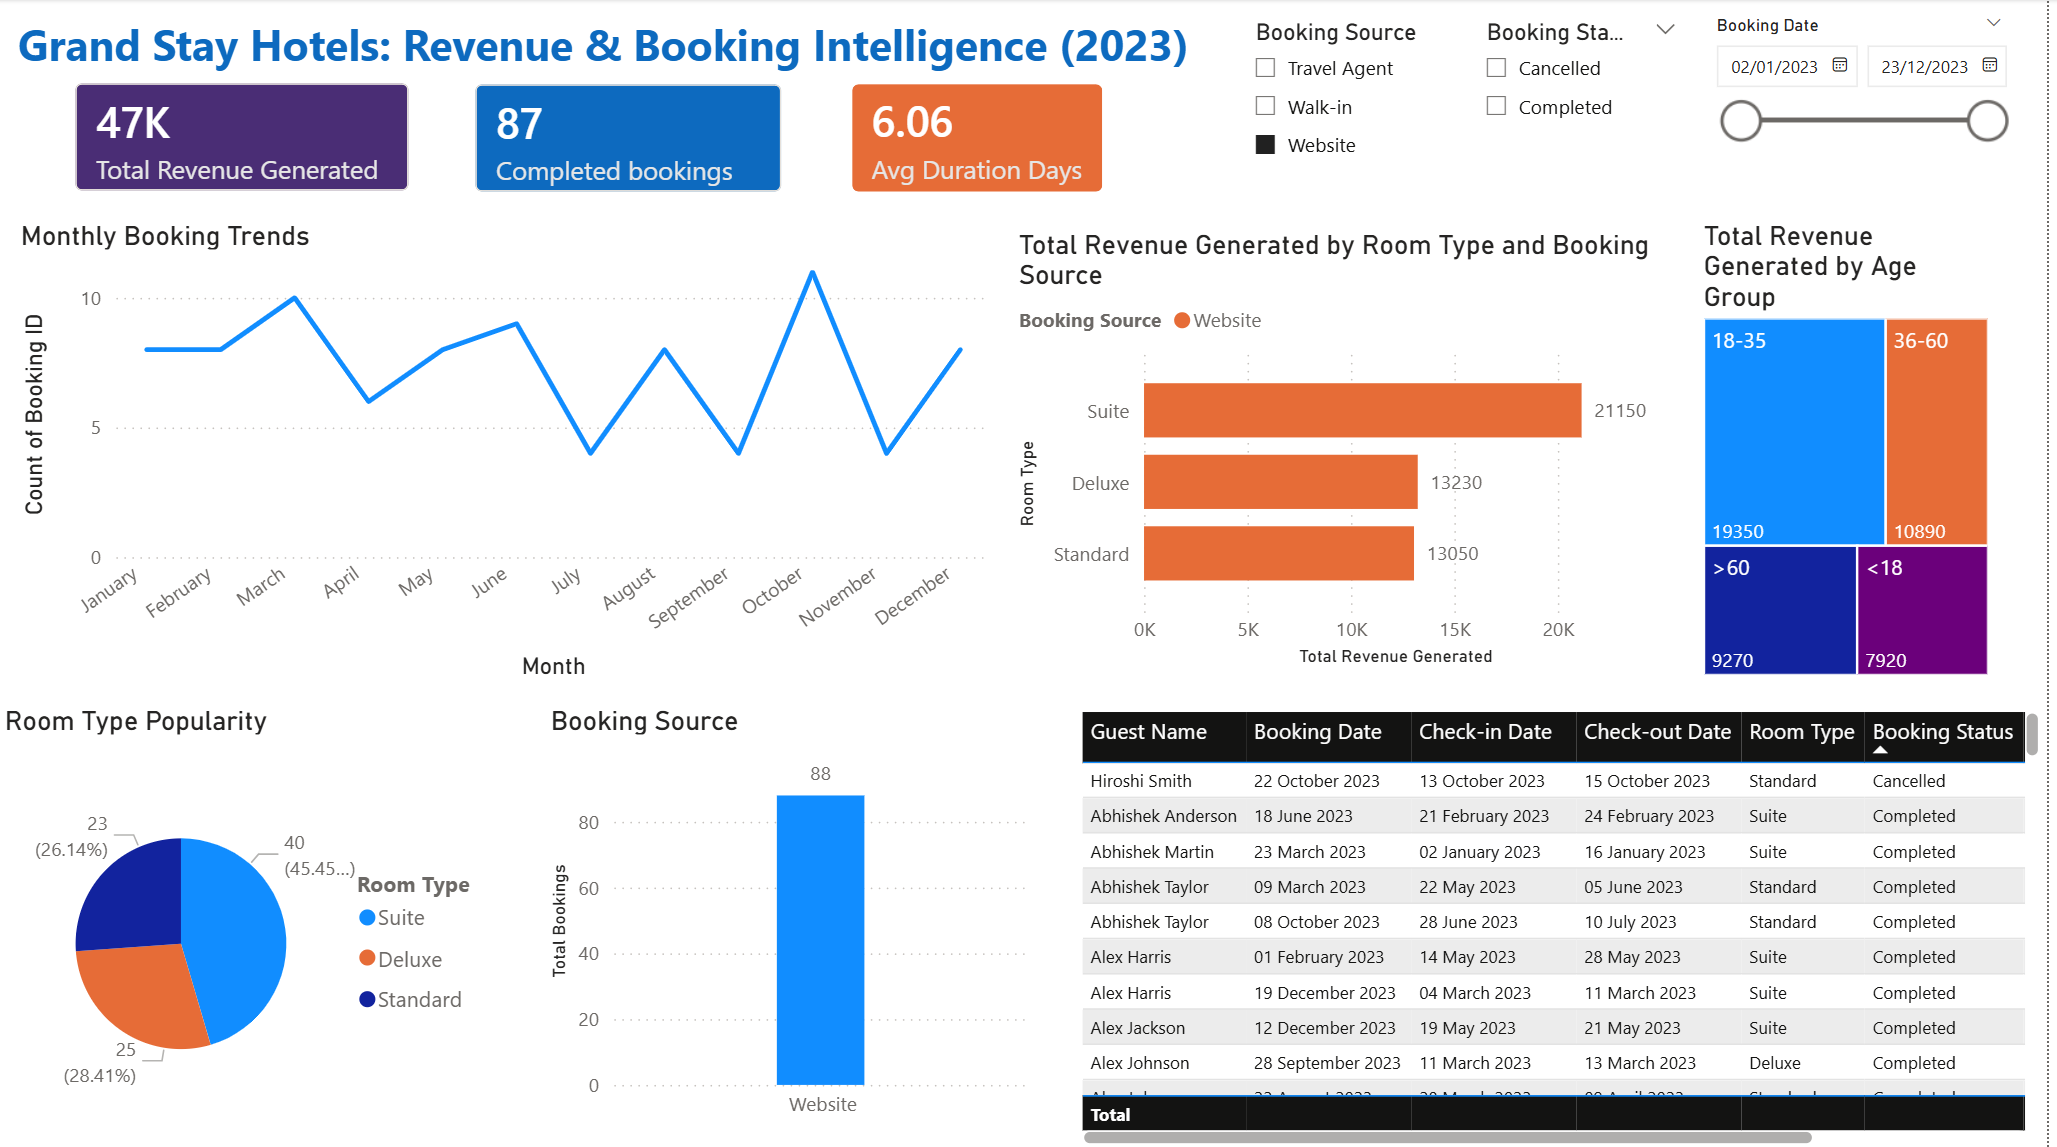

Layout of this report page (visuals, bound fields, positions):
{"tool":"powerbi","page":{"name":"Page 1","canvas":[1280,720],"ordinal":0},"visuals":[{"type":"cardVisual","fields":{"Data":["Bookings.Completed bookings"]},"box":[282.6,36.2,225.9,101.7],"z":0},{"type":"cardVisual","fields":{"Data":["Bookings.Total Revenue Generated"]},"box":[33.1,35.6,242.1,101.7],"z":1000},{"type":"cardVisual","fields":{"Data":["Bookings.Avg Duration Days"]},"box":[517.9,36.2,190.3,101.7],"z":2000},{"type":"lineChart","title":"Monthly Booking Trends","fields":{"Category":["Bookings.Booking Date.Variation.Date Hierarchy.Month"],"Y":["CountNonNull(Bookings.Booking ID)"]},"box":[11.2,137.3,614.6,292],"z":3000},{"type":"pieChart","title":"Room Type Popularity","fields":{"Category":["Bookings.Room Type"],"Y":["CountNonNull(Bookings.Booking ID)"]},"box":[1.2,439.9,317.6,280.1],"z":4000},{"type":"columnChart","title":"Booking Source","fields":{"Y":["CountNonNull(Bookings.Booking ID)"],"Category":["Bookings.Booking Source"]},"box":[341.9,439.9,309.5,267.7],"z":5000},{"type":"clusteredBarChart","fields":{"Category":["Bookings.Room Type"],"Y":["Bookings.Total Revenue Generated"],"Series":["Bookings.Booking Source"]},"box":[634,143.1,412.4,277.6],"z":6000},{"type":"treemap","fields":{"Group":["Guests.Age Group"],"Values":["Bookings.Total Revenue Generated"]},"box":[1061.3,137.5,187.2,289.5],"z":7000},{"type":"tableEx","fields":{"Values":["Guests.Guest Name","Bookings.Booking Date","Bookings.Check-in Date","Bookings.Check-out Date","Bookings.Room Type","Bookings.Booking Status","Sum(Bookings.Revenue Generated)"]},"box":[672.6,439.9,607.7,280.1],"z":8000},{"type":"slicer","fields":{"Values":["Bookings.Booking Date"]},"box":[1061.3,5,203.4,96.7],"z":9000},{"type":"slicer","fields":{"Values":["Bookings.Booking Source"]},"box":[773.7,7.5,144.1,106.7],"z":10000},{"type":"slicer","fields":{"Values":["Bookings.Booking Status"]},"box":[917.8,7.5,143.5,79.9],"z":11000},{"type":"textbox","box":[9.4,5,772.4,48.7],"z":12000}]}

Visuals, with their boxes in screenshot pixels (x1, y1, x2, y2), scaled from the page's 1280x720 canvas onto the 2057x1147 screenshot:
cardVisual - Bookings.Completed bookings: {"x1": 454, "y1": 58, "x2": 817, "y2": 220}
cardVisual - Bookings.Total Revenue Generated: {"x1": 53, "y1": 57, "x2": 442, "y2": 219}
cardVisual - Bookings.Avg Duration Days: {"x1": 832, "y1": 58, "x2": 1138, "y2": 220}
"Monthly Booking Trends" lineChart: {"x1": 18, "y1": 219, "x2": 1006, "y2": 684}
"Room Type Popularity" pieChart: {"x1": 2, "y1": 701, "x2": 512, "y2": 1146}
"Booking Source" columnChart: {"x1": 549, "y1": 701, "x2": 1047, "y2": 1127}
clusteredBarChart - Bookings.Room Type x Bookings.Total Revenue Generated: {"x1": 1019, "y1": 228, "x2": 1682, "y2": 670}
treemap - Guests.Age Group x Bookings.Total Revenue Generated: {"x1": 1706, "y1": 219, "x2": 2006, "y2": 680}
tableEx - Guests.Guest Name x Bookings.Booking Date: {"x1": 1081, "y1": 701, "x2": 2056, "y2": 1146}
slicer - Bookings.Booking Date: {"x1": 1706, "y1": 8, "x2": 2032, "y2": 162}
slicer - Bookings.Booking Source: {"x1": 1243, "y1": 12, "x2": 1475, "y2": 182}
slicer - Bookings.Booking Status: {"x1": 1475, "y1": 12, "x2": 1706, "y2": 139}
textbox: {"x1": 15, "y1": 8, "x2": 1256, "y2": 86}
